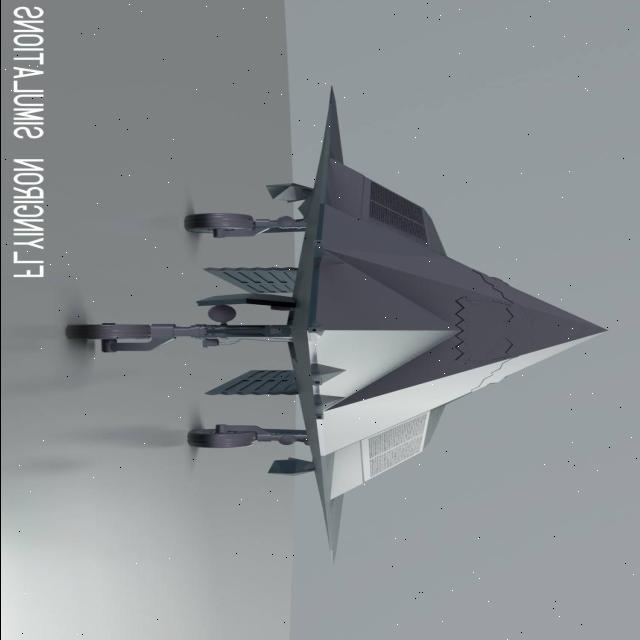F117: (27, 81, 640, 577)
